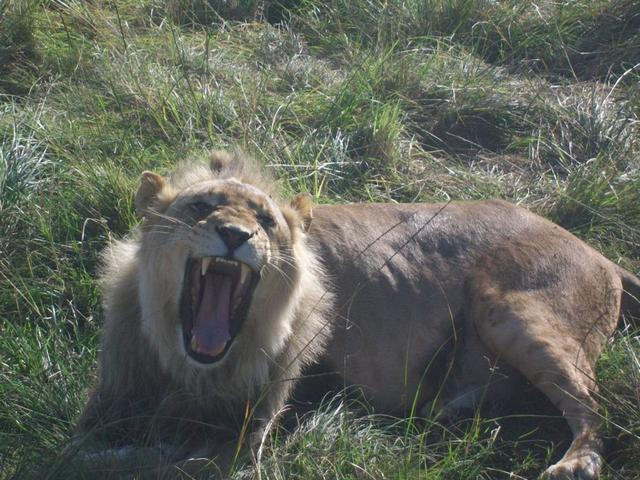lion: (47, 138, 622, 480)
